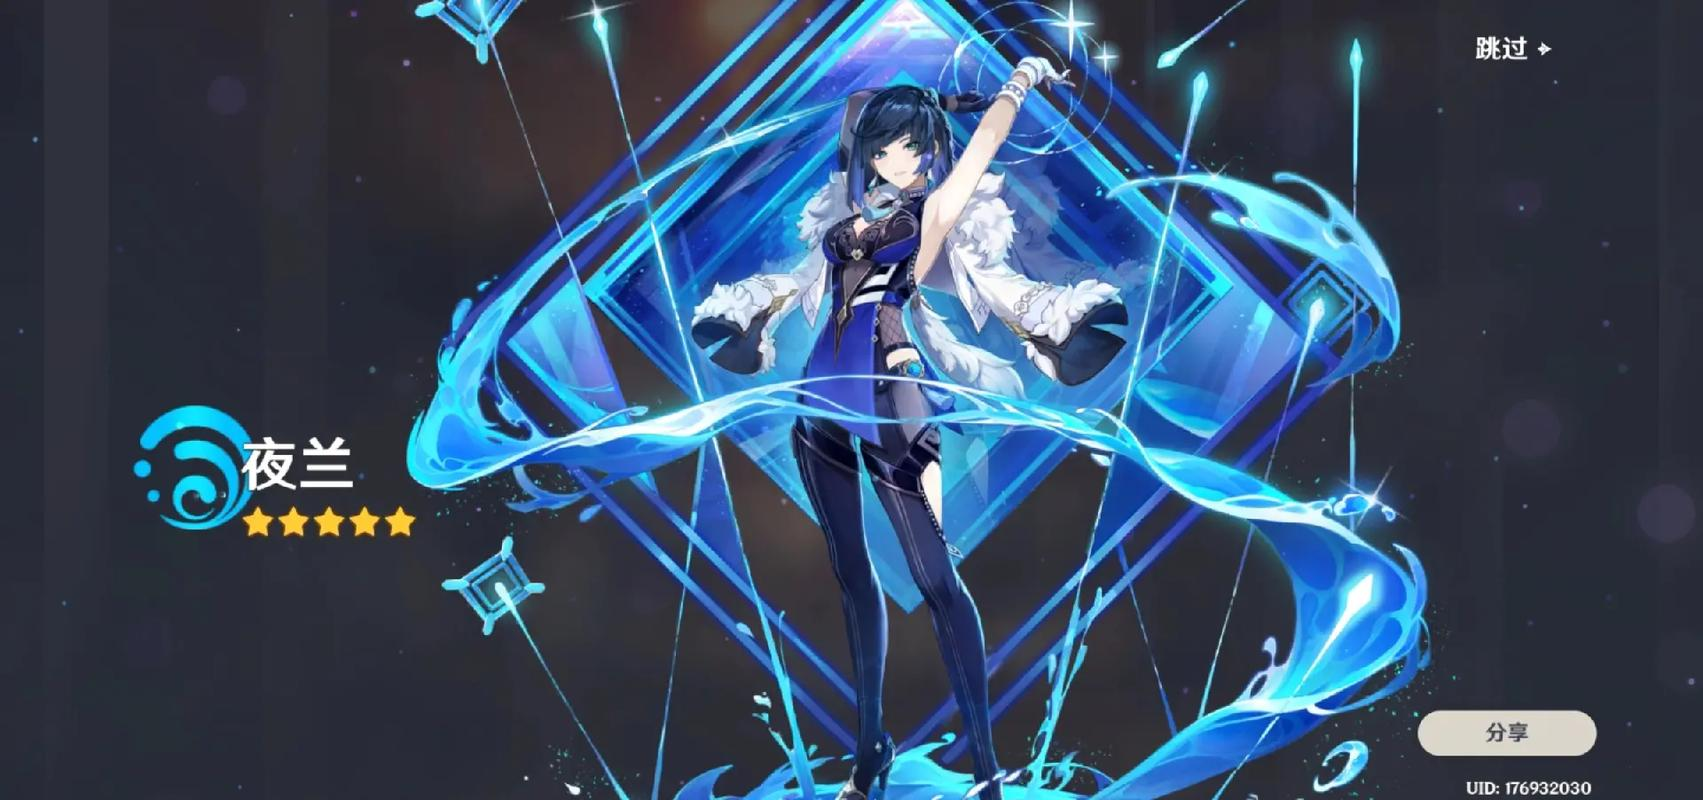夜兰: (774, 45, 1074, 800)
